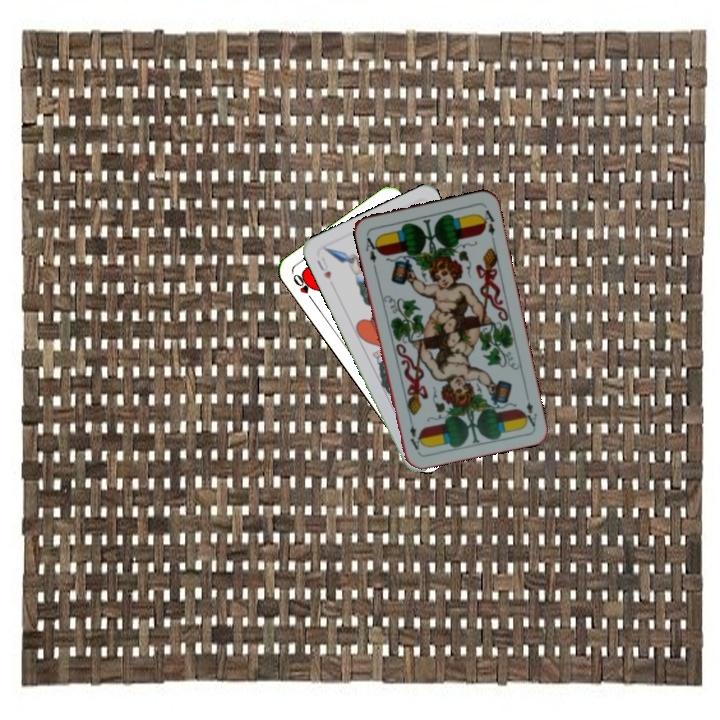EA: (361, 230, 382, 270), (519, 389, 539, 429)
HO: (289, 270, 317, 305)
HU: (313, 253, 334, 282)
